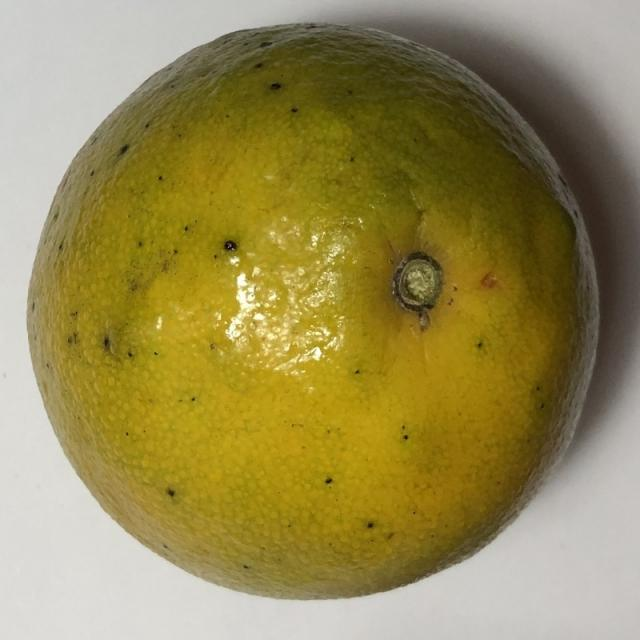blackspot: (18, 8, 617, 620)
